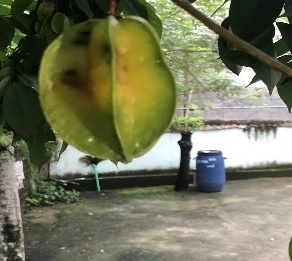Khe: (37, 16, 179, 163)
